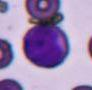L: (22, 25, 70, 68)
